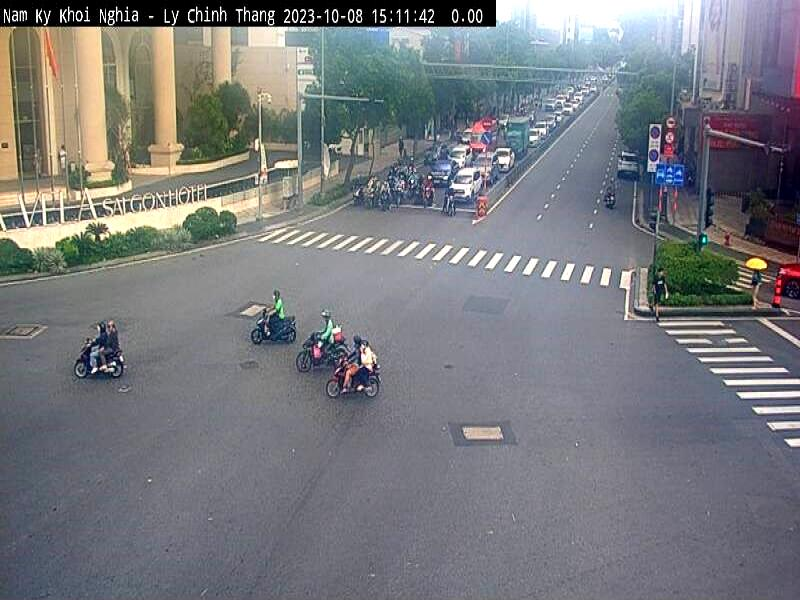car: (612, 141, 646, 203), (451, 162, 483, 208), (430, 157, 454, 190)
motorcycle: (326, 360, 390, 403), (289, 329, 350, 374), (249, 308, 301, 356), (72, 338, 130, 381)
truck: (503, 112, 530, 158)
